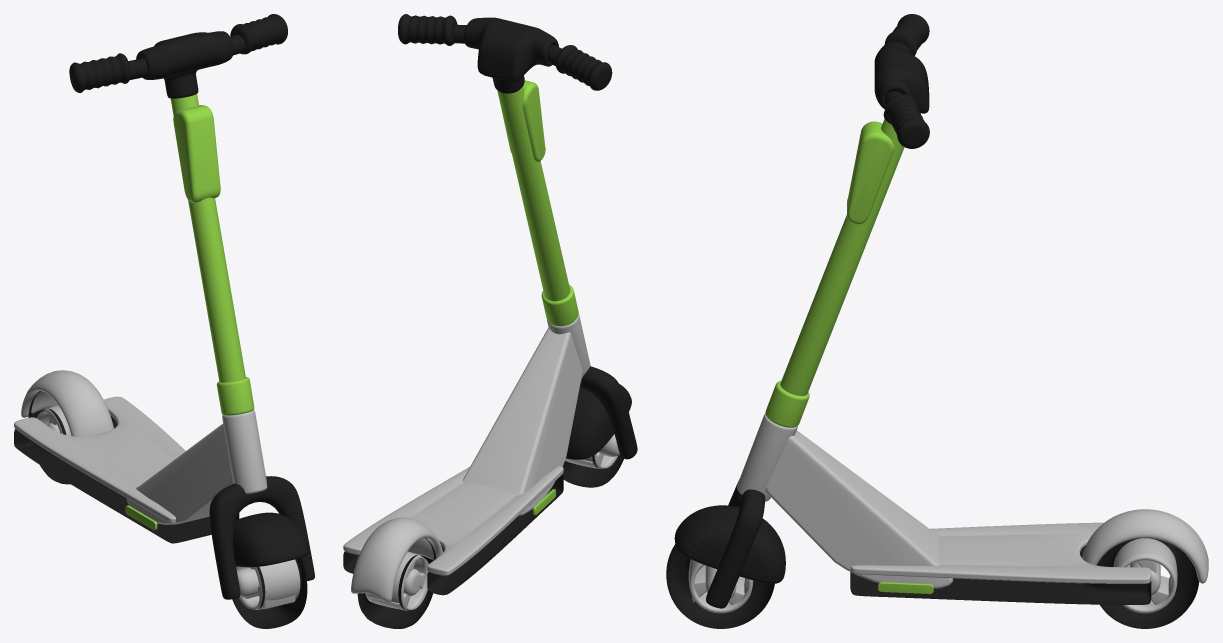
Rendered from scooter-animated-3d-icon-579646459859.glb.
3 views of the same model, side by side, from view 1: azimuth 30°, elevation 25°; view 2: azimuth 150°, elevation 25°; view 3: azimuth 270°, elevation 25° (orthographic). The views are drawn at different scales.
Parts seen in each view (by area): view 1: Lower Steering, Deck.003, Headtube, Fork, Upper Steering, Spakbor, Deck, Front Fender, Grip, Clamp, Rim, Wheel (+2 smaller); view 2: Headtube, Deck.003, Lower Steering, Upper Steering, Spakbor, Grip, Deck, Front Fender, Fork, Rim.001, Wheel.001, Wheel (+3 smaller); view 3: Headtube, Deck.003, Lower Steering, Deck, Front Fender, Spakbor, Fork, Wheel, Upper Steering, Wheel.001, Grip, Rim.001 (+3 smaller).
Part boxes in pixels (x1,y1,x2,y2): Lower Steering: (170,94,245,382); Deck.003: (14,396,185,523); Headtube: (126,423,233,524); Fork: (209,476,314,599); Upper Steering: (128,31,245,98); Spakbor: (21,370,113,436); Deck: (14,415,239,543); Front Fender: (233,512,309,566); Grip: (69,14,287,92); Clamp: (222,410,267,493); Rim: (236,559,300,609); Wheel: (232,557,307,628); Headtube: (462,327,582,515); Deck.003: (343,466,563,575); Lower Steering: (497,80,570,301); Upper Steering: (453,17,561,93); Spakbor: (351,517,442,601); Grip: (398,14,612,90); Deck: (343,474,563,595); Front Fender: (566,384,631,459); Fork: (580,366,637,459); Rim.001: (365,551,428,610); Wheel.001: (357,537,436,628); Wheel: (563,412,629,487); Headtube: (766,430,953,588); Deck.003: (850,522,1151,583); Lower Steering: (780,119,904,395); Deck: (850,545,1151,604); Front Fender: (674,505,785,583); Spakbor: (1082,509,1208,583); Fork: (706,479,765,608); Wheel: (666,544,774,628); Upper Steering: (874,41,929,124); Wheel.001: (1097,538,1199,628); Grip: (884,14,929,148); Rim.001: (1113,538,1177,613).
Size of the model in its own units: 0.8364 by 1.99 by 1.72.
